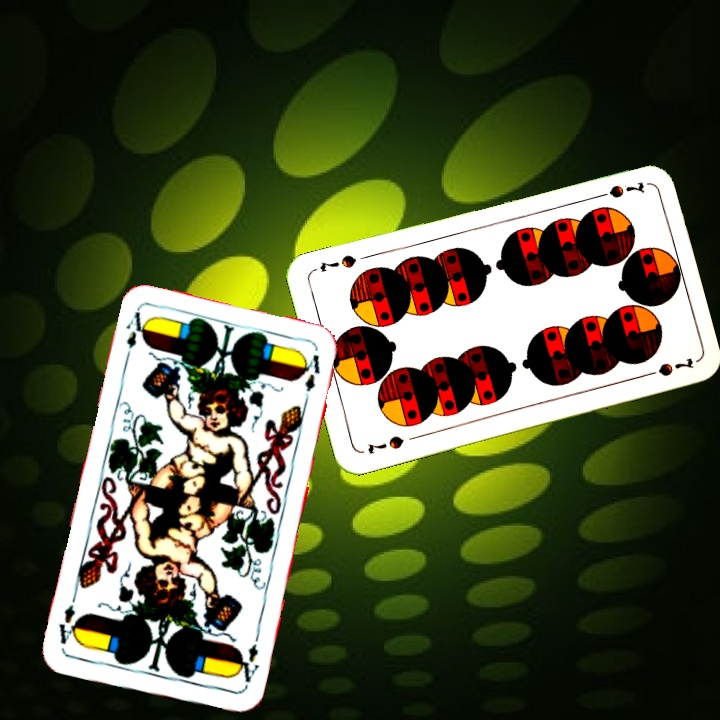EA: (231, 631, 262, 690), (121, 306, 151, 365)
S7: (590, 177, 647, 202), (364, 431, 407, 457)
